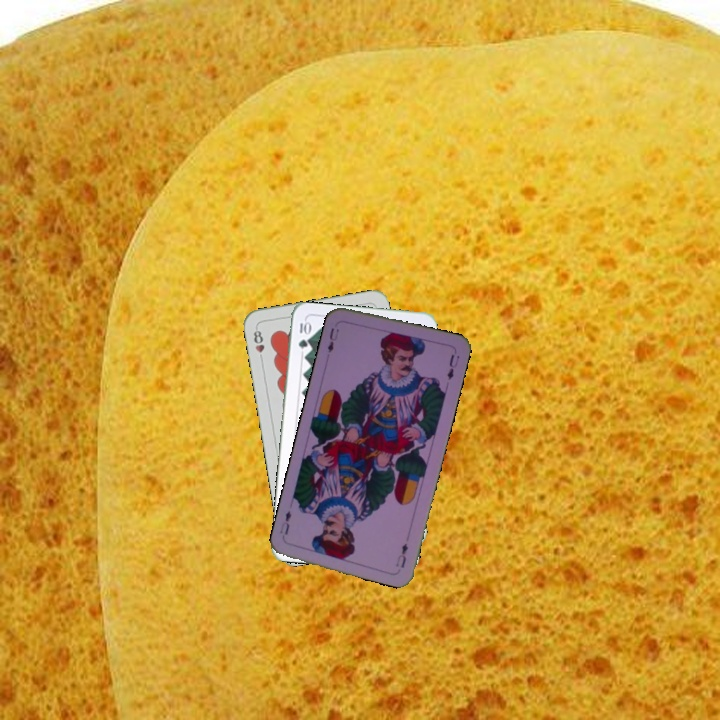EU: (323, 324, 342, 355), (392, 539, 410, 570)
G10: (294, 317, 311, 351)
H8: (249, 324, 267, 364)
